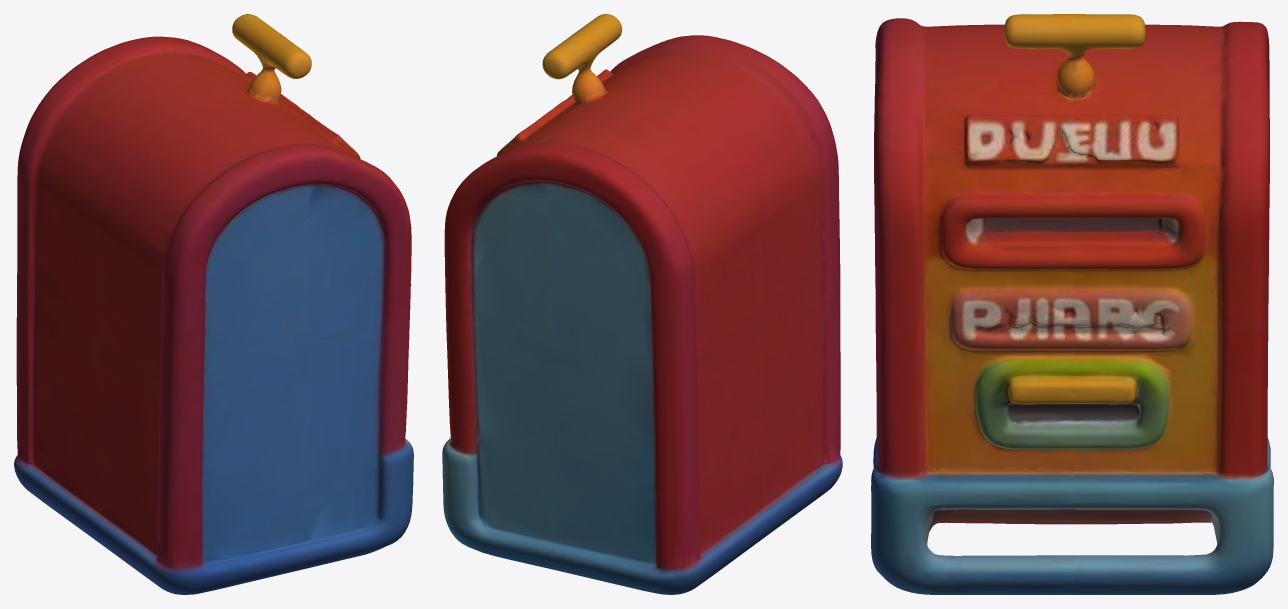
The model's file is mailbox.glb.
3 views of the same model, side by side, from view 1: azimuth 30°, elevation 25°; view 2: azimuth 150°, elevation 25°; view 3: azimuth 270°, elevation 25° (orthographic). The views are drawn at different scales.
Visible parts, largest first — view 1: tripo_node_c341501b-cf30-42c9-8f43-e48e637325f8; view 2: tripo_node_c341501b-cf30-42c9-8f43-e48e637325f8; view 3: tripo_node_c341501b-cf30-42c9-8f43-e48e637325f8.
Part boxes in pixels (x1=…): tripo_node_c341501b-cf30-42c9-8f43-e48e637325f8: x1=14, y1=14, x2=413, y2=594; tripo_node_c341501b-cf30-42c9-8f43-e48e637325f8: x1=442, y1=14, x2=842, y2=594; tripo_node_c341501b-cf30-42c9-8f43-e48e637325f8: x1=871, y1=14, x2=1273, y2=594.
Size of the model in its own units: 0.5508 by 0.9495 by 0.6276.
1 material, 1 textured.
